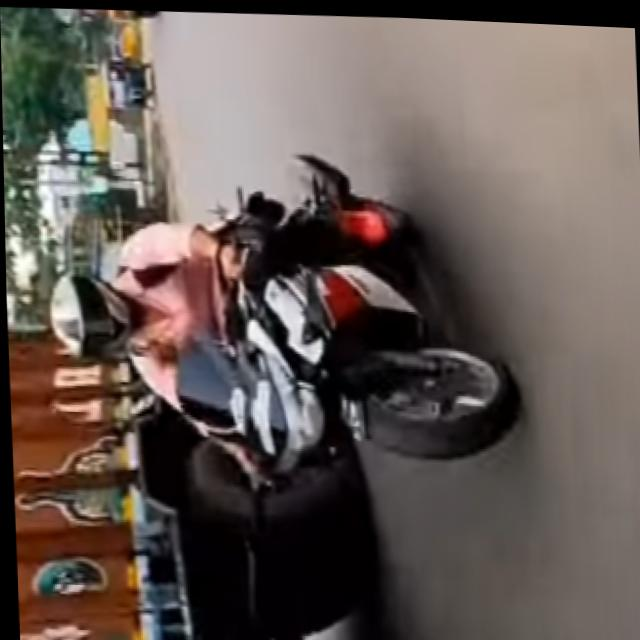WITH_HELMET: (37, 250, 160, 367)
normal: (28, 162, 498, 477)
